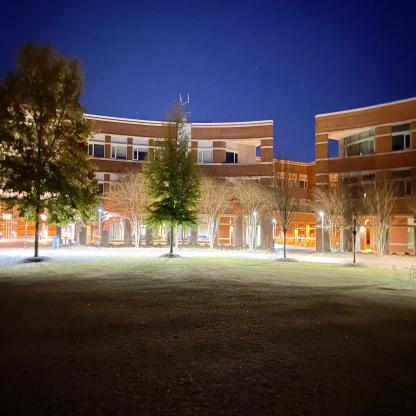eb2: (2, 99, 316, 260)
